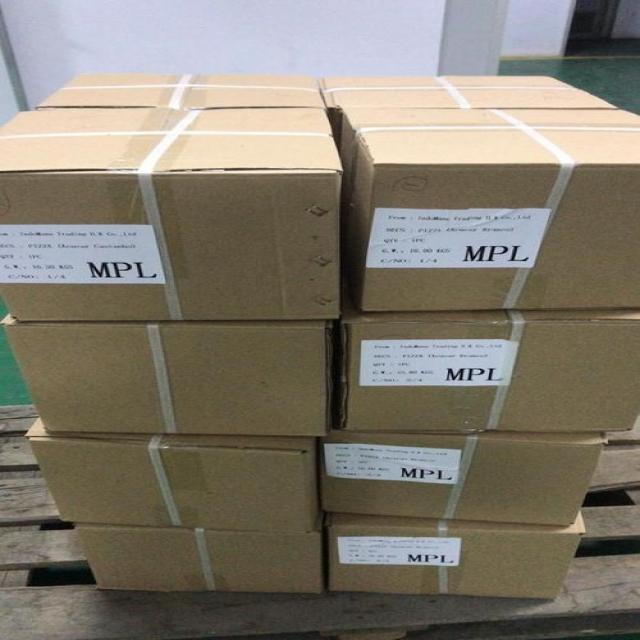box: (2, 108, 342, 321), (337, 109, 639, 312), (1, 314, 336, 436), (337, 311, 638, 431), (26, 416, 324, 533), (321, 431, 606, 526), (322, 508, 586, 601), (74, 521, 327, 591), (32, 73, 323, 109), (327, 75, 618, 109)
